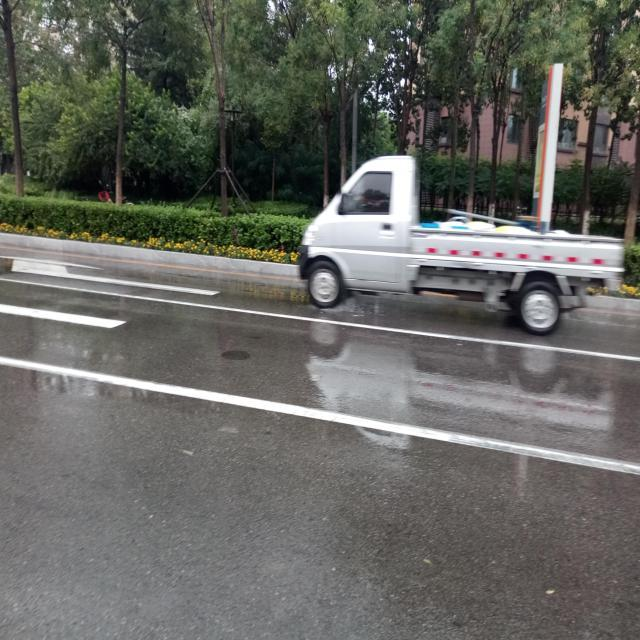car: (298, 154, 627, 334)
